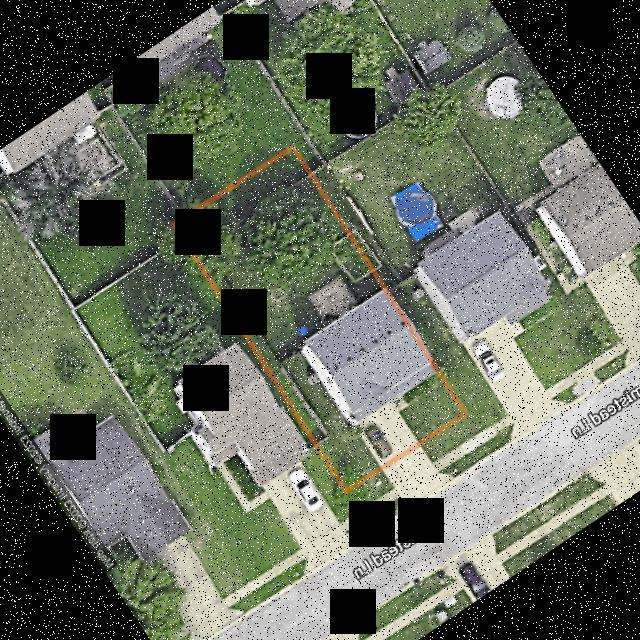Driveway: (361, 403, 417, 467)
Extra Driveway: (382, 446, 452, 516)
Extra Lawn: (420, 416, 480, 464), (438, 441, 494, 478), (346, 471, 394, 513), (364, 498, 399, 532)
Extra Sidewalk: (432, 432, 486, 473), (359, 489, 400, 520)
House: (301, 291, 434, 425)
Other: (308, 277, 357, 326), (393, 397, 409, 412), (306, 373, 318, 386)
